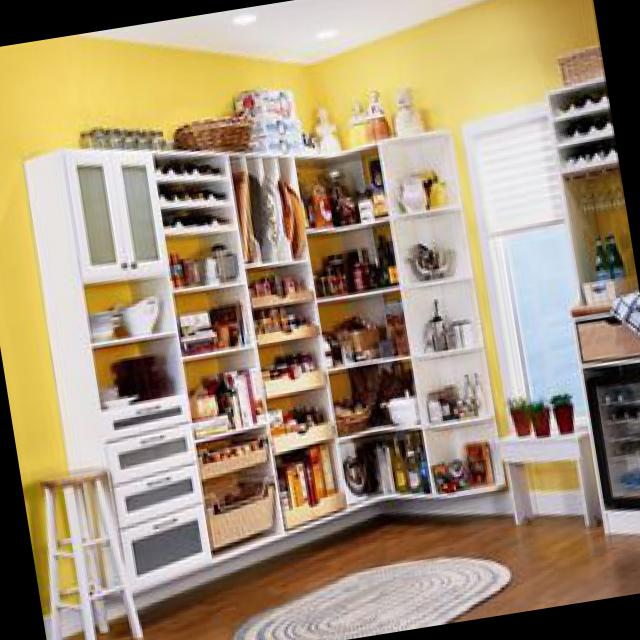2001: (473, 115, 594, 463)
basket crop: (209, 482, 275, 547), (173, 114, 253, 149), (200, 440, 271, 479), (288, 489, 349, 526), (585, 270, 638, 303), (561, 42, 605, 81)
bottle crop: (394, 433, 412, 489), (407, 431, 423, 489), (476, 370, 490, 415), (387, 241, 401, 282)
bottle of wine: (606, 230, 629, 277)
bottles of olive oil: (558, 84, 606, 107), (161, 184, 226, 198), (155, 160, 224, 173)
boxs: (290, 442, 337, 508), (219, 365, 265, 426)
ceiling beam: (88, 0, 479, 62)
dishes crop: (116, 351, 163, 401), (92, 307, 123, 339)
floor -X: (53, 511, 640, 640)
jar -X: (330, 251, 349, 290), (356, 258, 369, 289)
jars: (81, 126, 169, 148), (257, 305, 309, 332), (279, 349, 316, 377)
package: (251, 269, 307, 295)
pantry door: (25, 128, 510, 596), (549, 74, 640, 533)
plant -x: (554, 389, 574, 405), (511, 398, 532, 410), (534, 395, 550, 409)
plant pot occlued: (512, 407, 532, 434), (556, 403, 574, 432), (533, 407, 551, 436)
rug -partially obscured-: (234, 554, 512, 640)
statue: (393, 84, 426, 130), (369, 83, 390, 135)
stool crop: (43, 463, 147, 640)
table -X: (501, 426, 604, 524)
tray: (252, 170, 280, 256)
trays: (237, 167, 255, 259)
wall clock: (0, 33, 385, 640), (312, 0, 640, 517)
